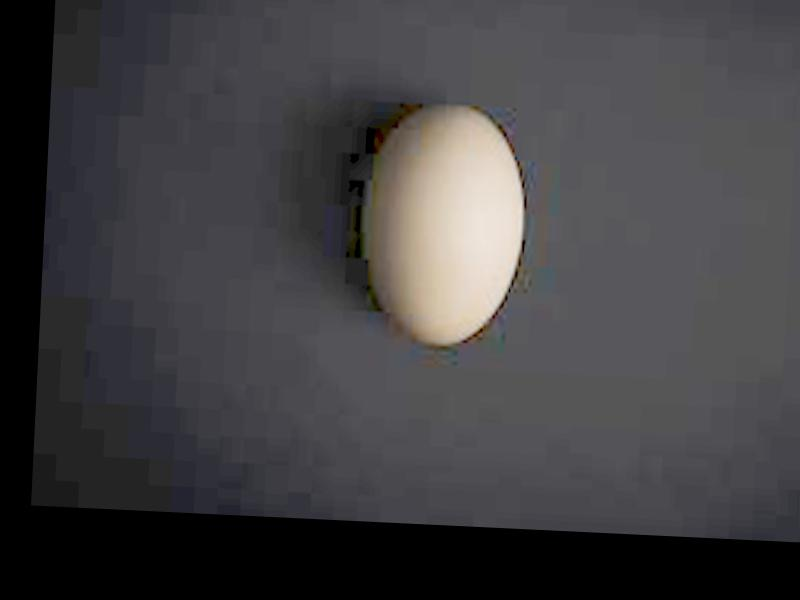Eggs: (362, 98, 528, 354)
